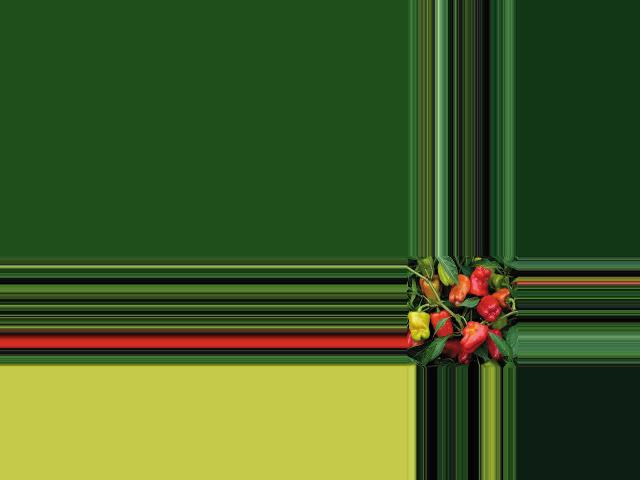bell_pepper: (493, 288, 512, 302)
